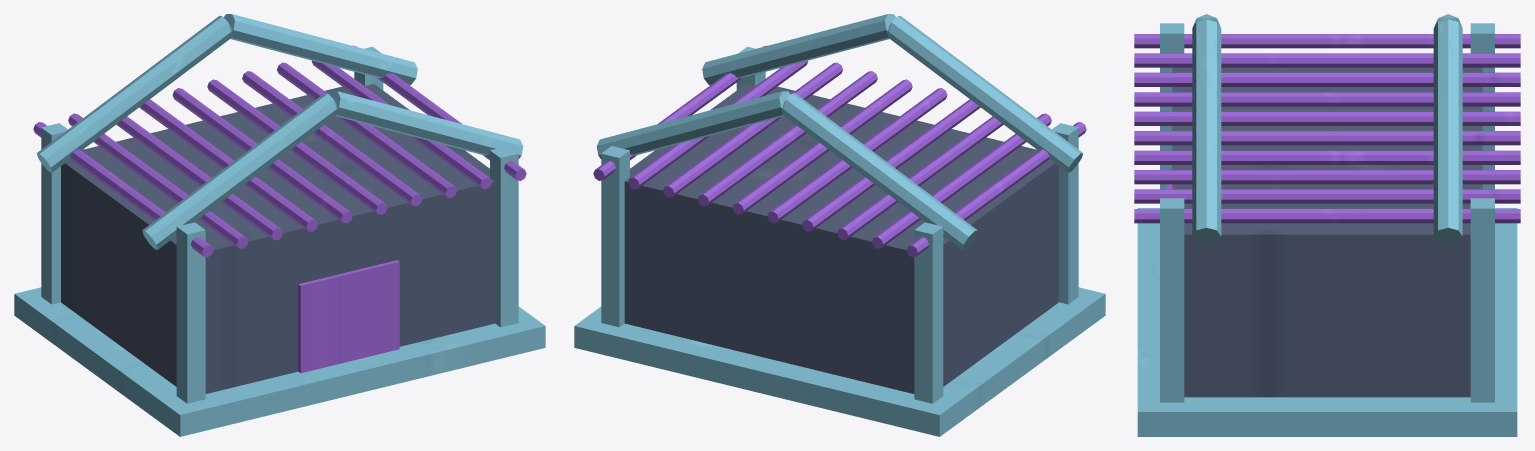
File: frost_shrine_hall.obj
3 renders of one model, left to right at view 1: azimuth 30°, elevation 25°; view 2: azimuth 150°, elevation 25°; view 3: azimuth 270°, elevation 25°, orthographic. The views are drawn at different scales.
Bounding box in the file's own units: 14.37 × 10.18 × 11.2.
Materials: 1 (1 with a texture image).
